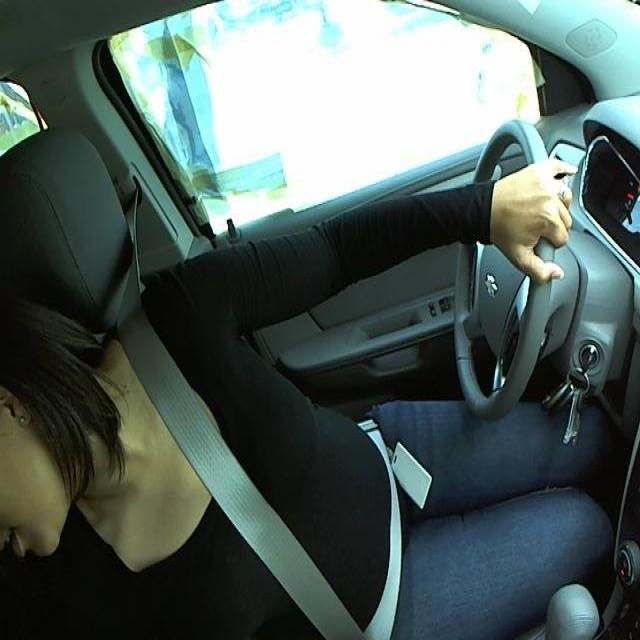seatbelt: (111, 322, 428, 638)
